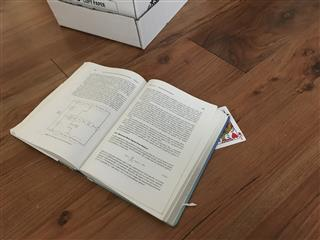JackOfHearts: (214, 105, 246, 149)
